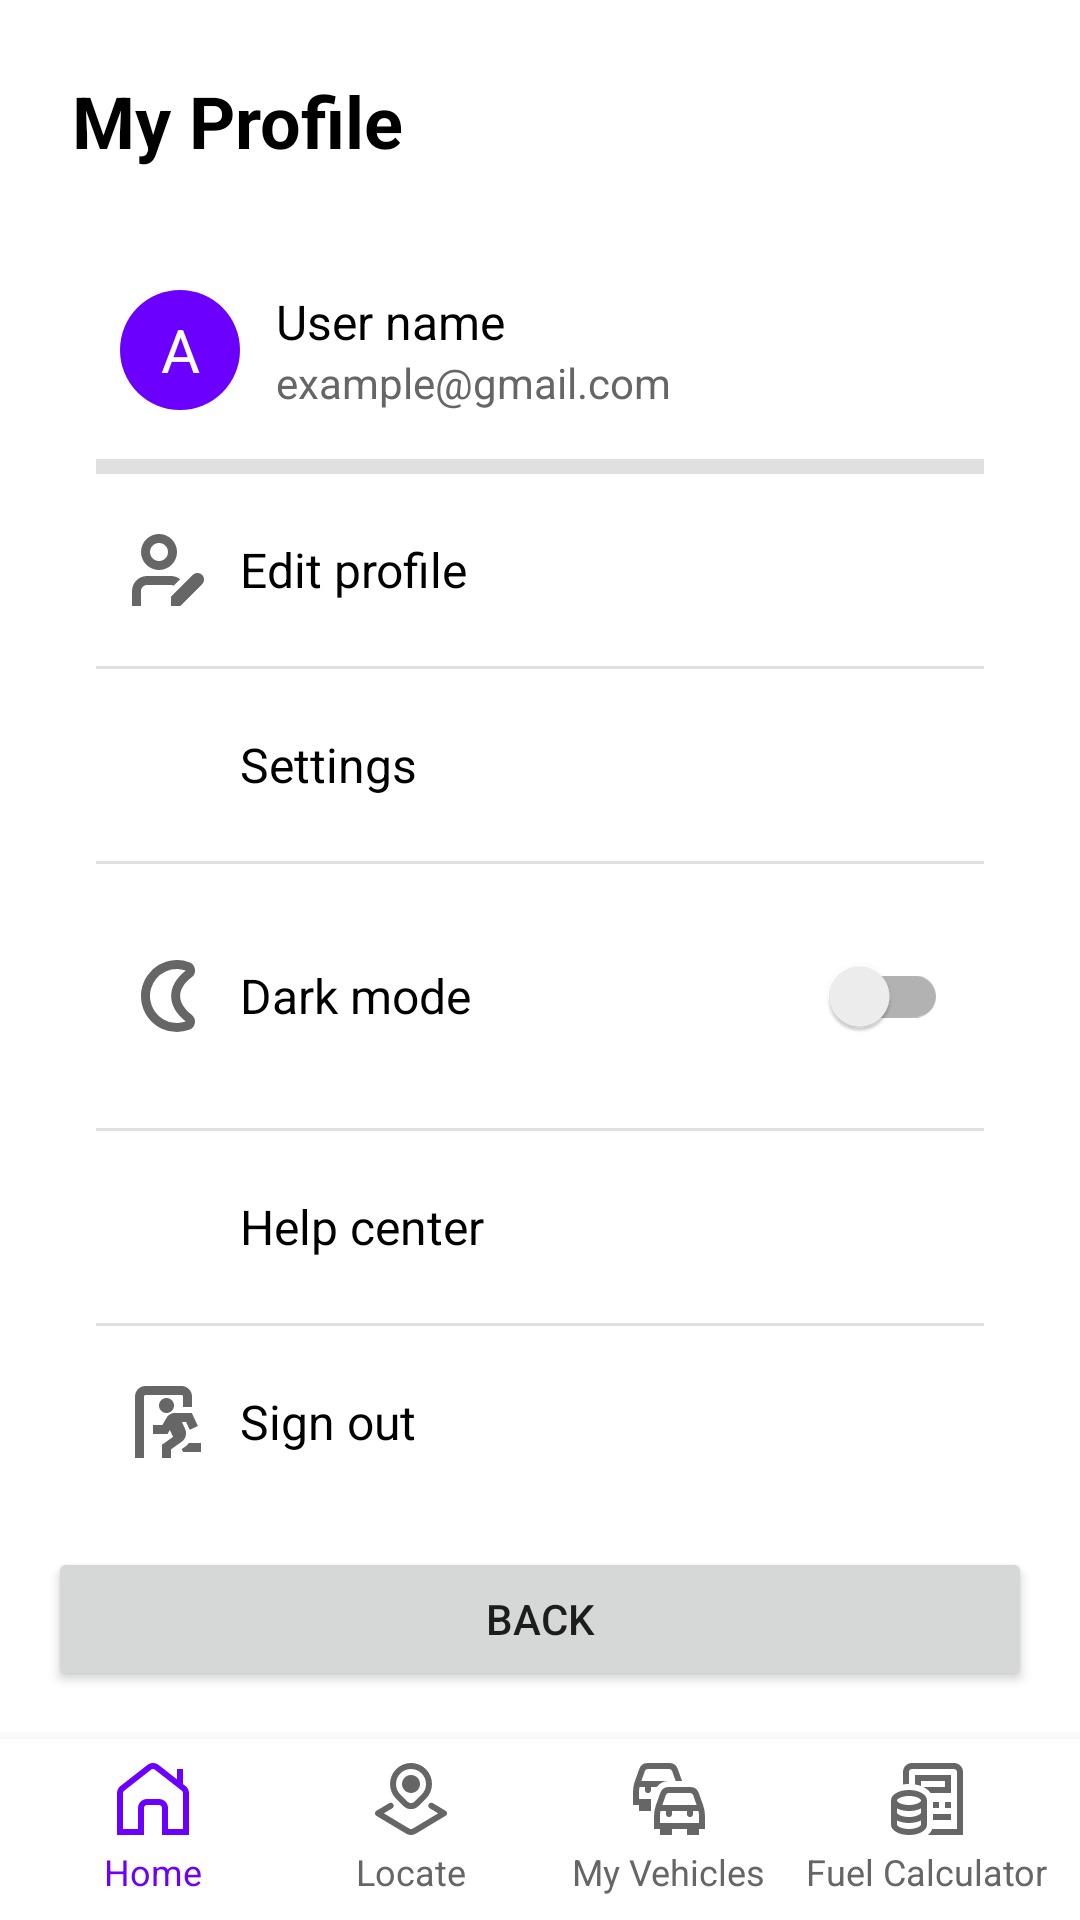

Locate icon controls on the screen. Image size 1080x1920, boxes as (x1,y1,x2,y2).
location: (375,1763,447,1835)
